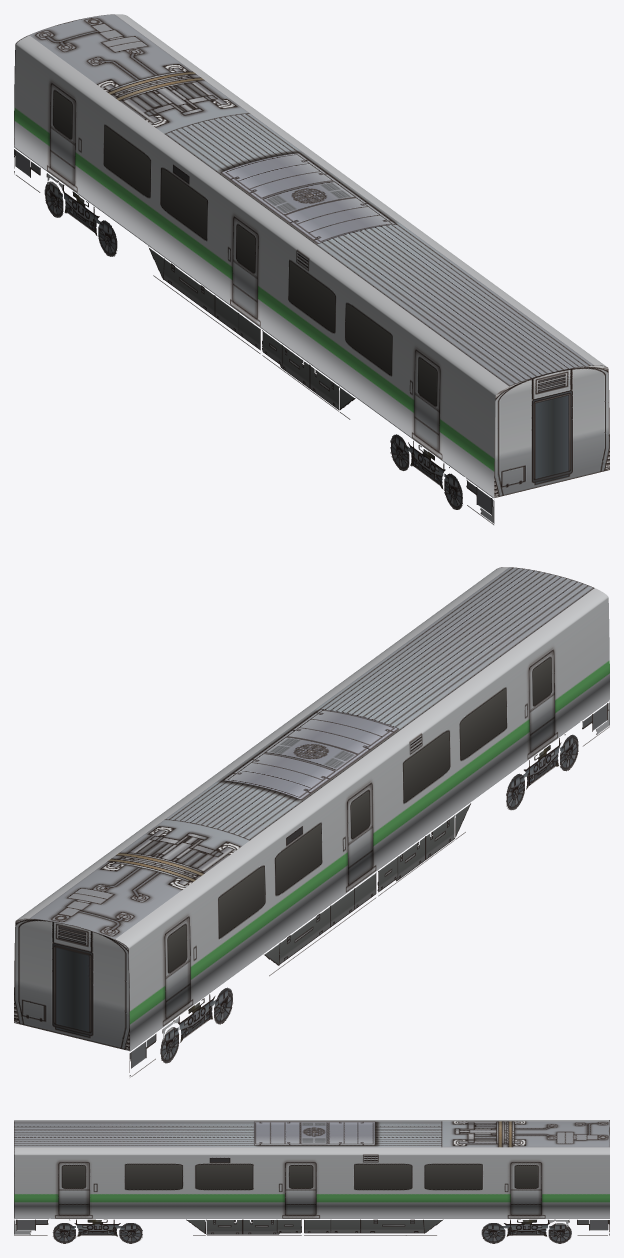
Rendered from car2.glb.
3 views of the same model, one above another, from view 1: azimuth 30°, elevation 25°; view 2: azimuth 150°, elevation 25°; view 3: azimuth 270°, elevation 25° (orthographic). The views are drawn at different scales.
Visible parts, largest first — view 1: jr733-car2; view 2: jr733-car2; view 3: jr733-car2.
Boxes of the visible parts, x1,y1,x2,y2 form: jr733-car2: (14, 14, 609, 524); jr733-car2: (14, 567, 609, 1077); jr733-car2: (14, 1120, 609, 1243).
Size of the model in its own units: 2.89 by 3.63 by 20.8.
Materials: 6 (5 with a texture image).
